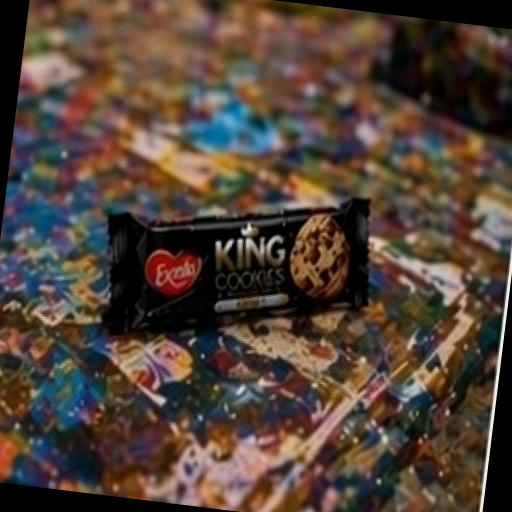king_cooking: (42, 115, 452, 394)
